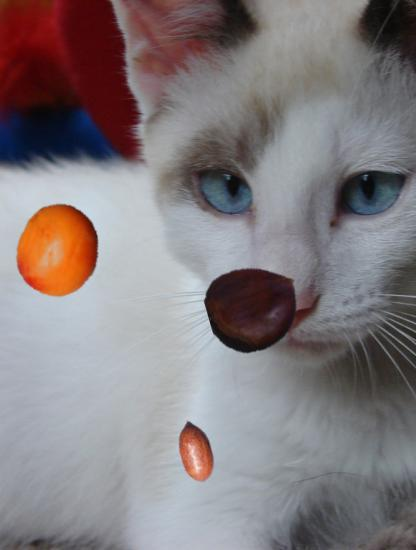Apricot: (11, 203, 107, 299)
Chestnut: (208, 262, 301, 355)
Nut: (164, 420, 228, 484)
